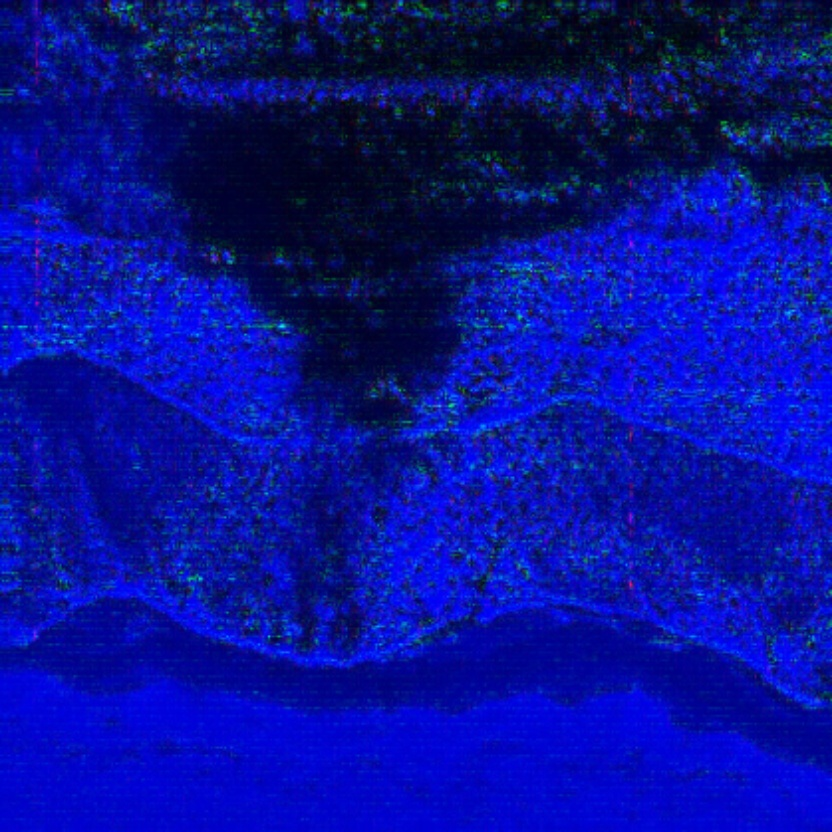rip_current: (223, 158, 523, 621)
